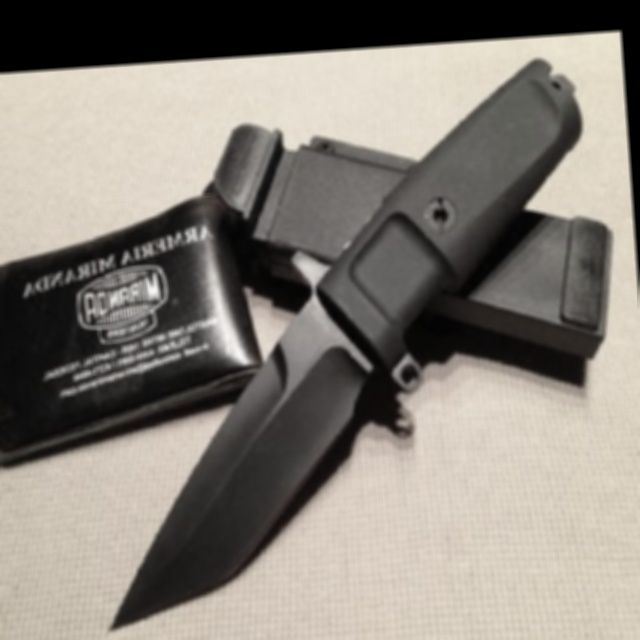Sharp-Object: (73, 57, 612, 631)
